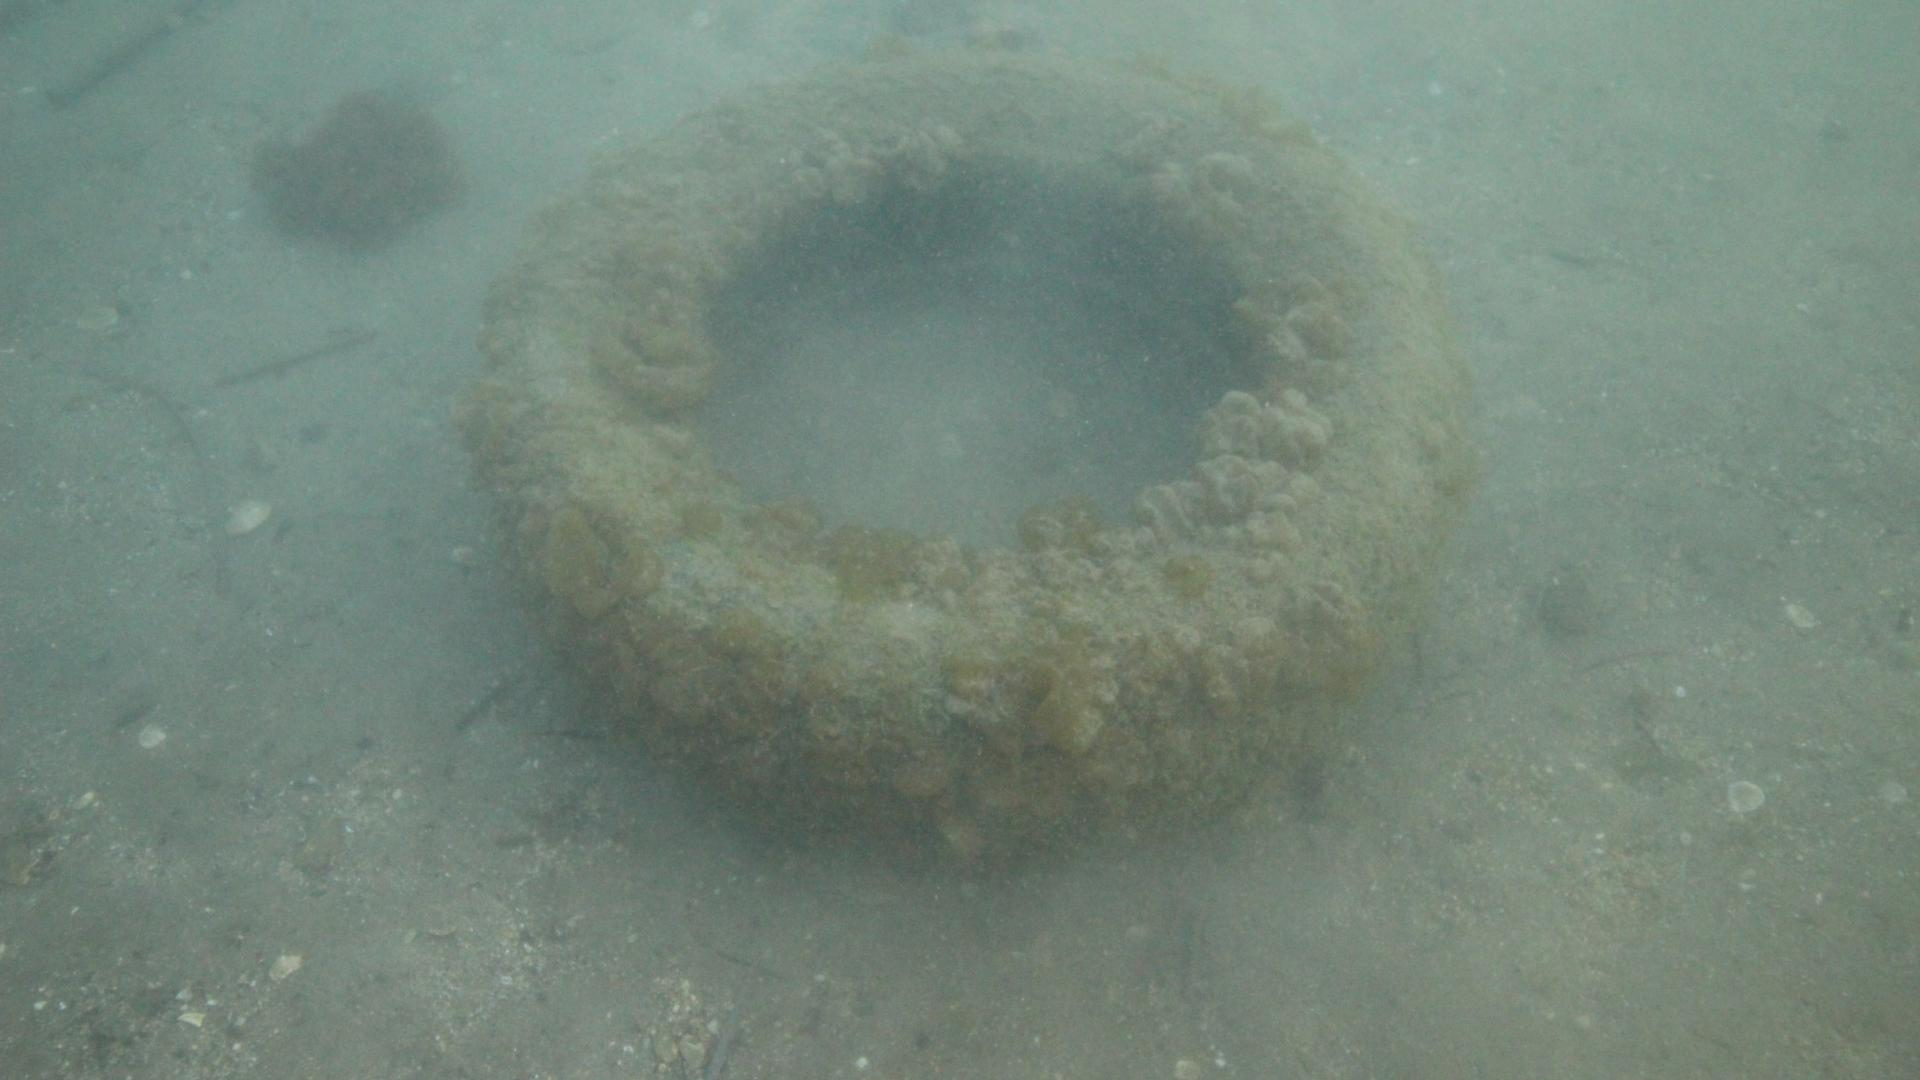tire: (483, 47, 1461, 849)
